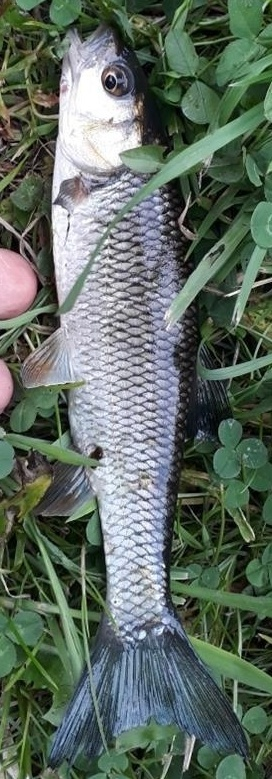Leuciscus cephalus: (20, 20, 252, 759)
